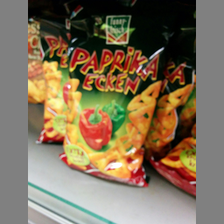chips: (65, 30, 162, 187)
